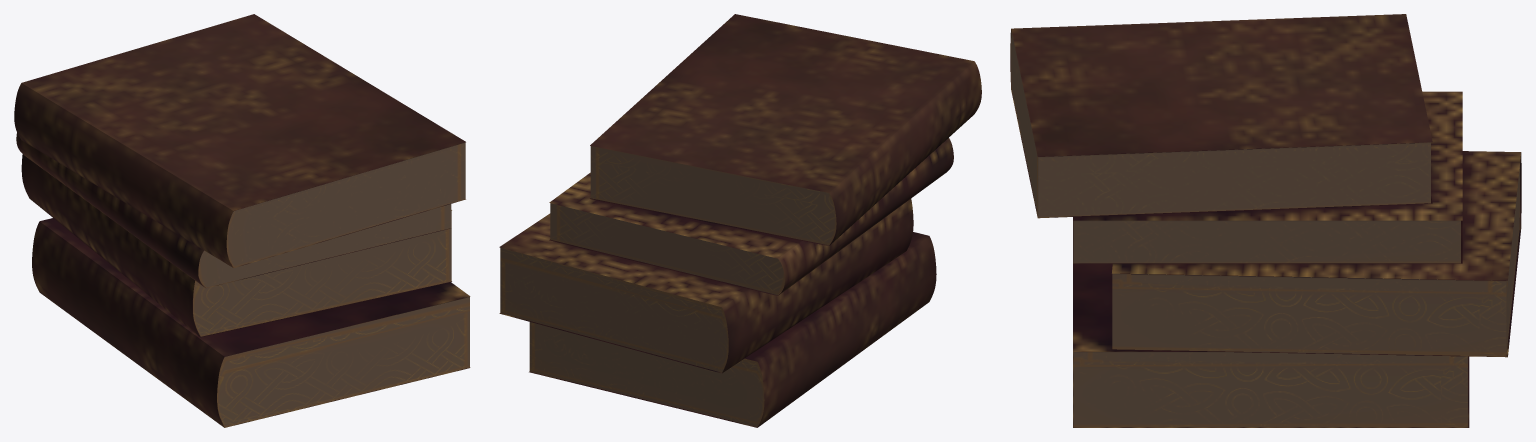
The model's file is SM_BookPile17.fbx.
3 views of the same model, side by side, from view 1: azimuth 30°, elevation 25°; view 2: azimuth 150°, elevation 25°; view 3: azimuth 270°, elevation 25° (orthographic). The views are drawn at different scales.
Parts seen in each view (by area): view 1: SM_BookPile17_LOD0; view 2: SM_BookPile17_LOD0; view 3: SM_BookPile17_LOD0.
Boxes of the visible parts, box(x1,y1,x2,y2) form: SM_BookPile17_LOD0: box(14, 14, 470, 427); SM_BookPile17_LOD0: box(499, 14, 981, 427); SM_BookPile17_LOD0: box(1010, 14, 1521, 427).
Size of the model in its own units: 41.81 by 54.81 by 30.79.
1 material, 1 textured.
